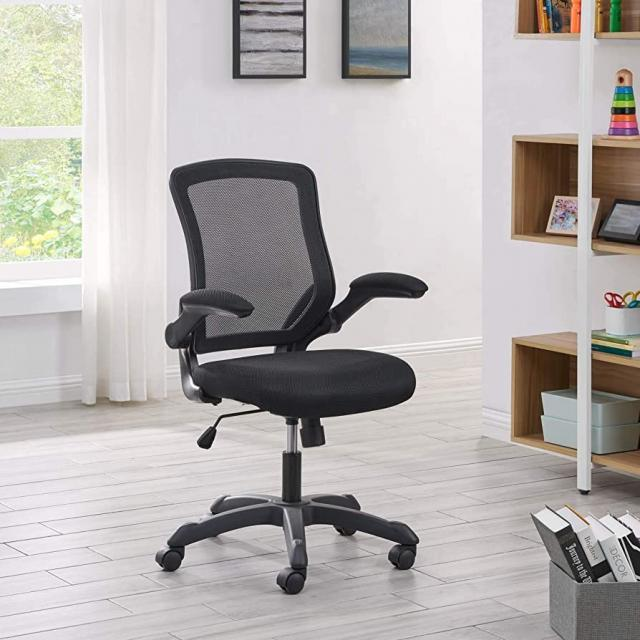chair: (121, 133, 454, 617)
